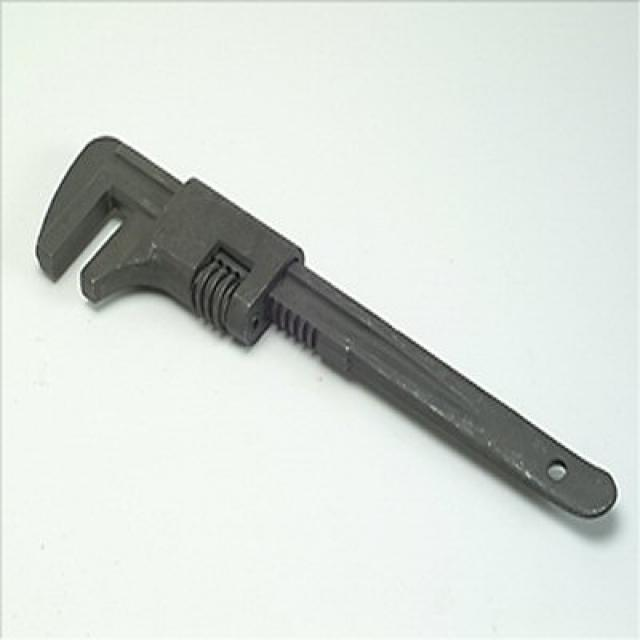wrench: (30, 128, 620, 532)
